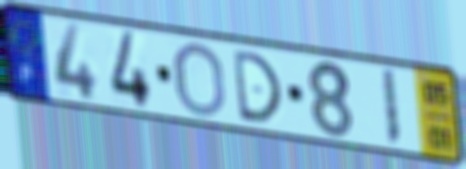4: (51, 19, 103, 104), (109, 29, 154, 112)
8: (306, 58, 356, 140)
D: (230, 47, 285, 125)
I: (379, 66, 403, 151)
O: (172, 39, 229, 120)
